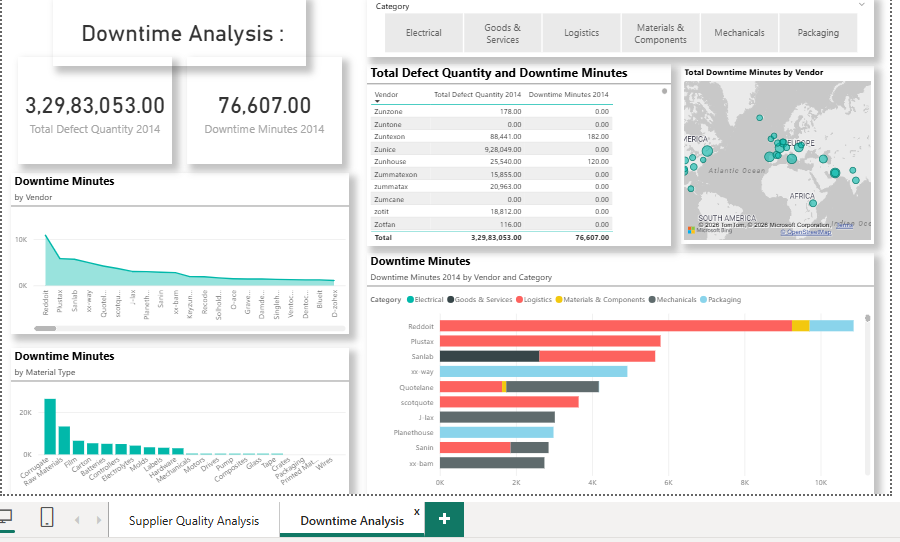

What the dashboard file says about the page in this screenshot:
{"tool":"powerbi","page":{"name":"Downtime Analysis ","canvas":[1280,720],"ordinal":1},"visuals":[{"type":"card","fields":{"Values":["Metrics.Total Defect Quantity 2014"]},"box":[23,90.7,221.8,154.1],"z":0},{"type":"card","fields":{"Values":["Metrics.Downtime Minutes 2014"]},"box":[266.4,90.7,223.2,154.1],"z":1000},{"type":"card","fields":{"Values":["Vendor.Tittle"]},"box":[73.4,2.9,364.3,100.8],"z":2000},{"type":"areaChart","title":"Downtime Minutes ","fields":{"Y":["Metrics.Downtime Minutes 2014"],"Category":["Vendor.Vendor"]},"box":[13,257.8,486.7,231.8],"z":3000},{"type":"barChart","title":"Downtime Minutes ","fields":{"Category":["Vendor.Vendor"],"Y":["Metrics.Downtime Minutes 2014"],"Series":["Category.Category"]},"box":[525.6,373,730.1,347],"z":4000},{"type":"tableEx","title":"Total Defect Quantity and Downtime Minutes ","fields":{"Values":["Vendor.Vendor","Metrics.Total Defect Quantity 2014","Metrics.Downtime Minutes 2014"]},"box":[525.6,100.8,437.8,262.1],"z":5000},{"type":"lineStackedColumnComboChart","title":"Downtime Minutes","fields":{"Category":["Material Type.Material Type"],"Y":["Metrics.Downtime Minutes 2014"]},"box":[13,509.8,486.7,210.2],"z":6000},{"type":"slicer","fields":{"Values":["Category.Category"]},"box":[525.6,2.9,730.1,87.8],"z":7000},{"type":"map","fields":{"Category":["Vendor.Vendor"],"Size":["Metrics.Total Downtime Minutes"]},"box":[977.8,103.7,277.9,256.3],"z":8000}]}

Visuals, with their boxes on the page's 1280x720 design canvas (x1, y1, x2, y2). These are canvas units, not pixel positions in the 900x542 screenshot, which may show the page scaled, cropped or inside an application window:
card - Metrics.Total Defect Quantity 2014: 23, 91, 245, 245
card - Metrics.Downtime Minutes 2014: 266, 91, 490, 245
card - Vendor.Tittle: 73, 3, 438, 104
"Downtime Minutes " areaChart: 13, 258, 500, 490
"Downtime Minutes " barChart: 526, 373, 1256, 720
"Total Defect Quantity and Downtime Minutes " tableEx: 526, 101, 963, 363
"Downtime Minutes" lineStackedColumnComboChart: 13, 510, 500, 720
slicer - Category.Category: 526, 3, 1256, 91
map - Vendor.Vendor x Metrics.Total Downtime Minutes: 978, 104, 1256, 360
